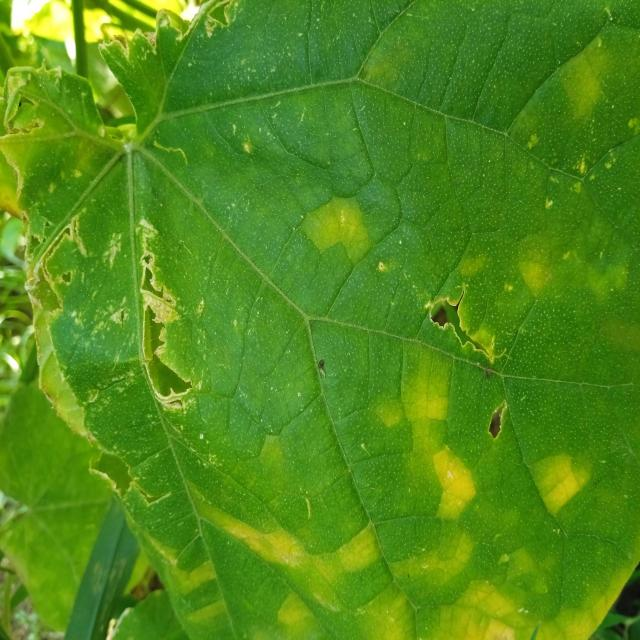cucumber_downy: (16, 70, 640, 640)
